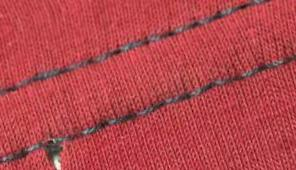hole: (42, 149, 67, 170)
